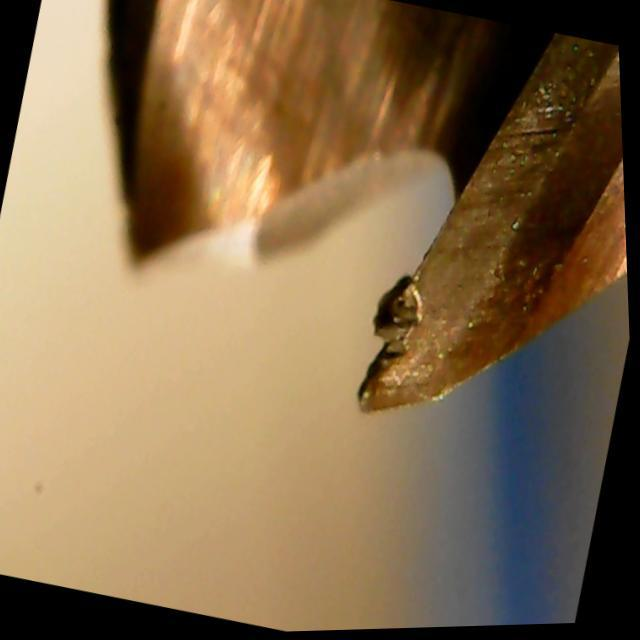Tool-wear-class-1: (317, 100, 587, 463)
